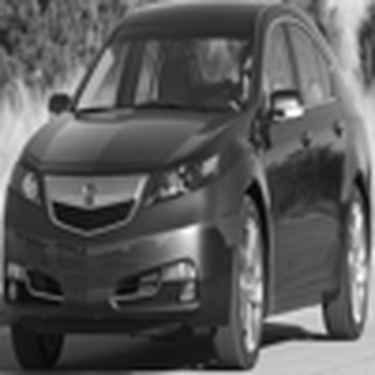car: (3, 5, 372, 373)
